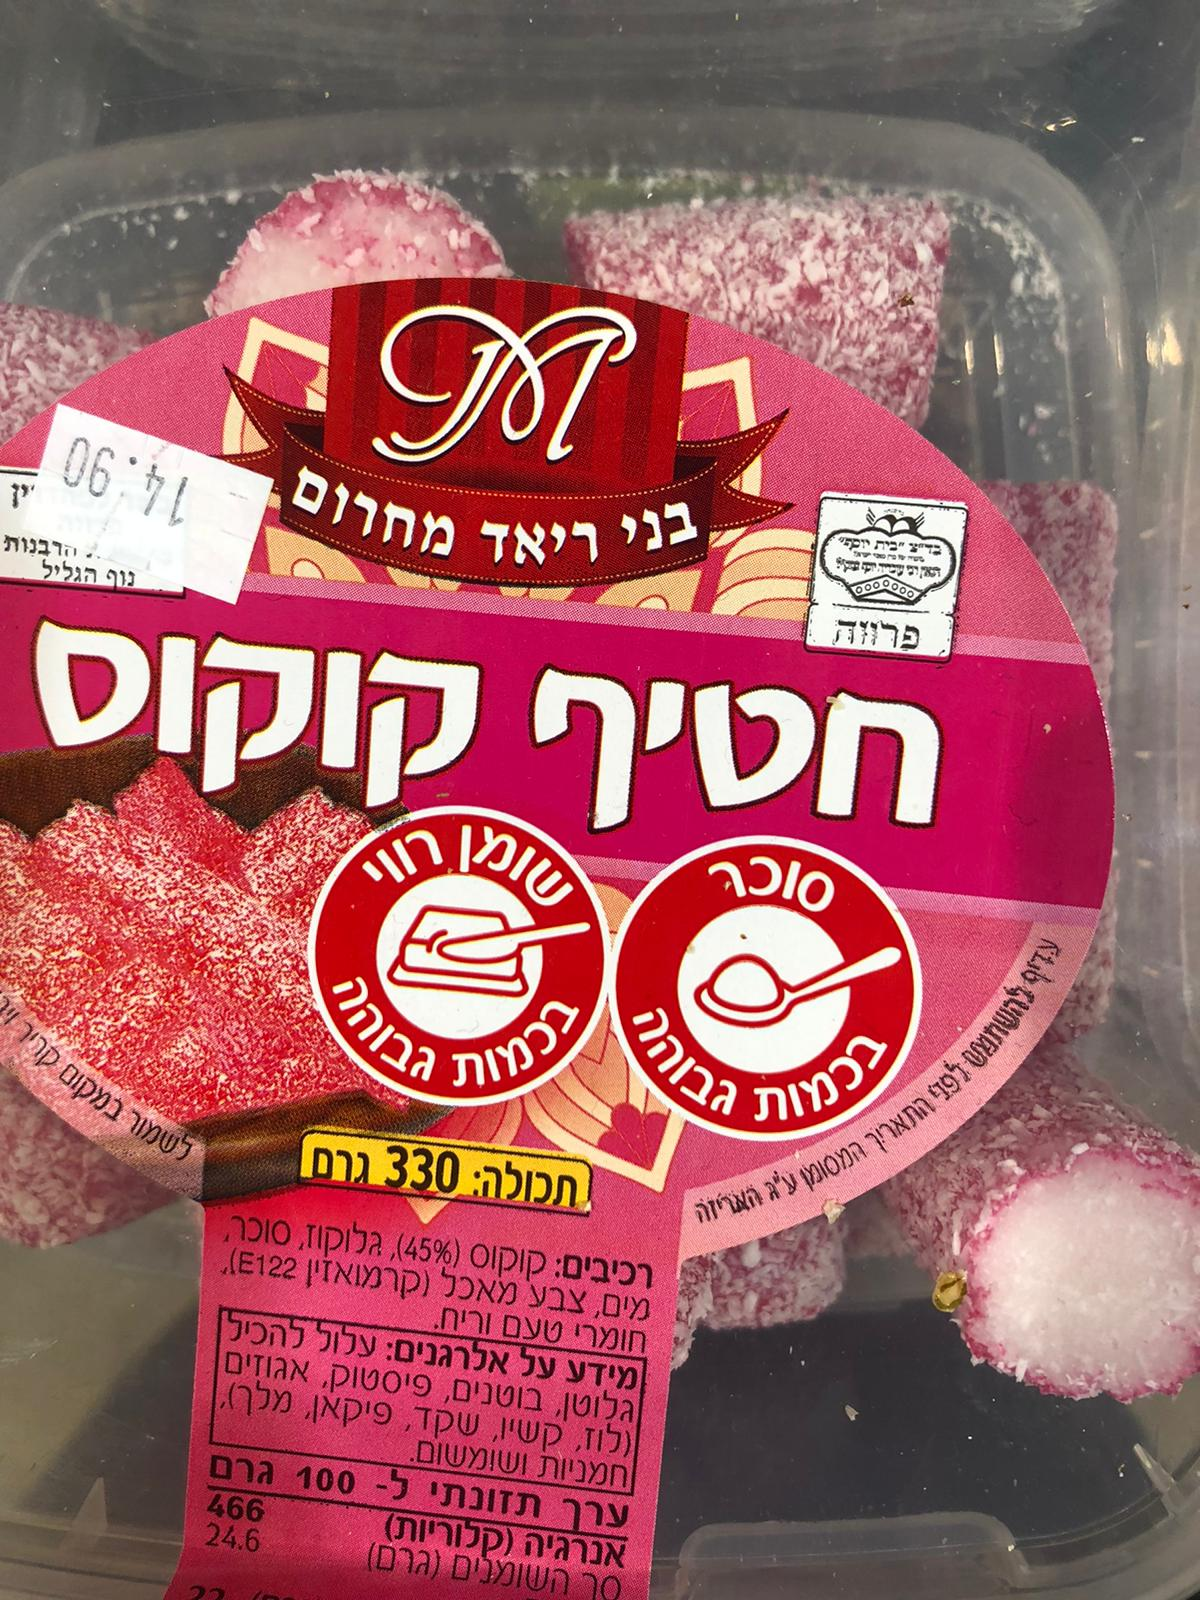fat: (308, 806, 611, 1106)
sugar: (608, 835, 921, 1145)
